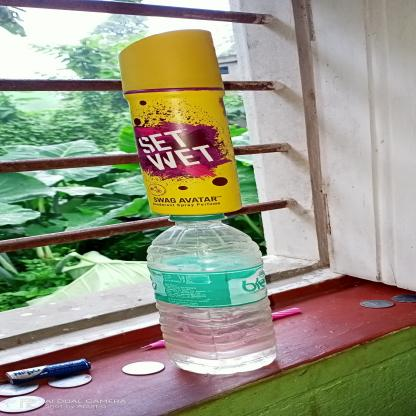bottle: (115, 30, 243, 218), (145, 215, 280, 380)
